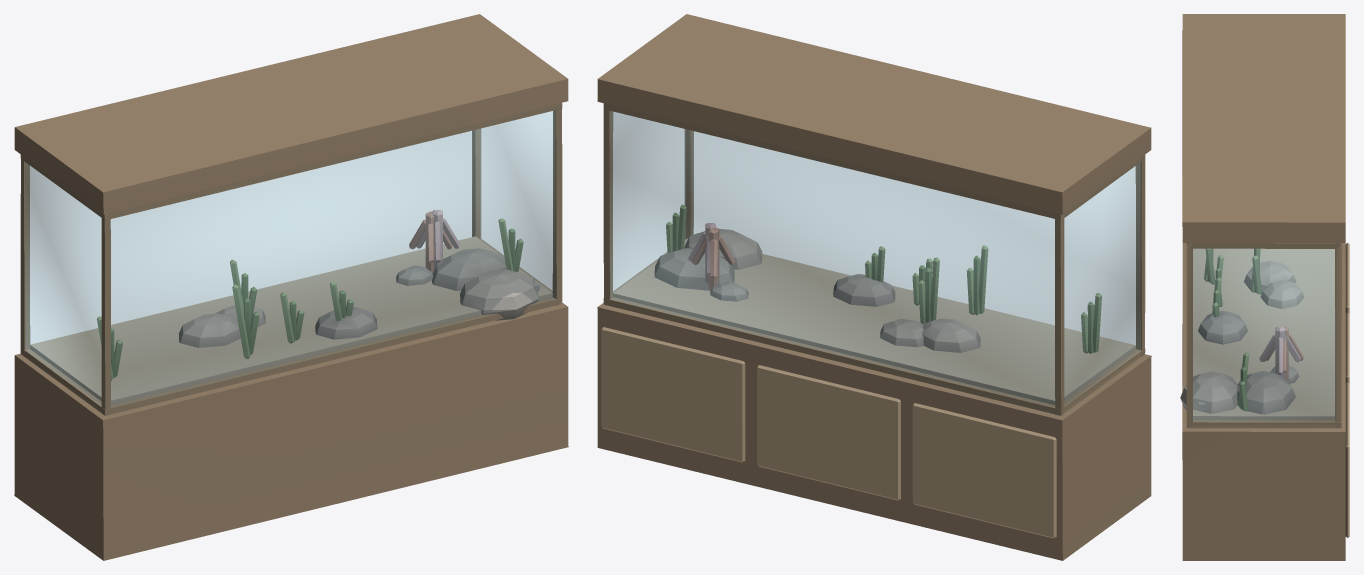
File: furn_aquarium_big__walnut_low.glb
3 views of the same model, side by side, from view 1: azimuth 30°, elevation 25°; view 2: azimuth 150°, elevation 25°; view 3: azimuth 270°, elevation 25° (orthographic). The views are drawn at different scales.
Size of the model in its own units: 2.39 by 1.82 by 0.8214.
